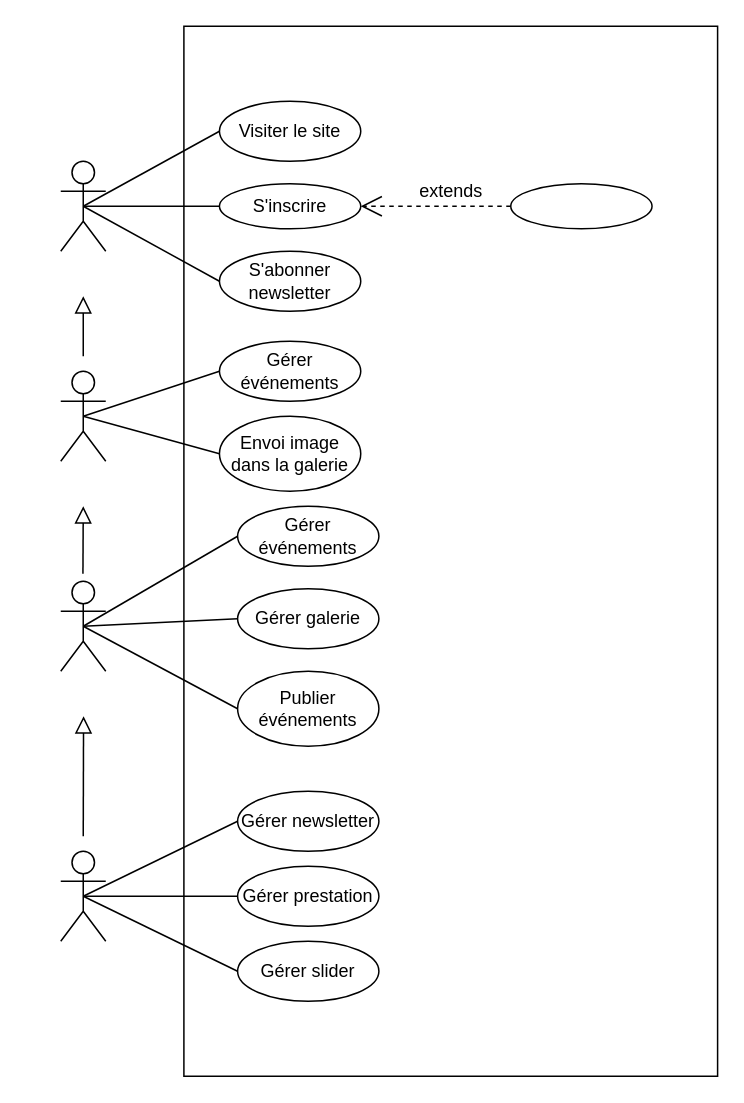
The diagram is 744 pixels wide and 1103 high, and some of its shapes have lost their labels. The centre of each missing label's shape, as x and y in pixels:
"Administrateur" belongs at pixel 82 895.
"Membre" belongs at pixel 82 415.
"Modérateur" belongs at pixel 82 625.
"Se connecter" belongs at pixel 580 205.
"Visiteur" belongs at pixel 82 205.
